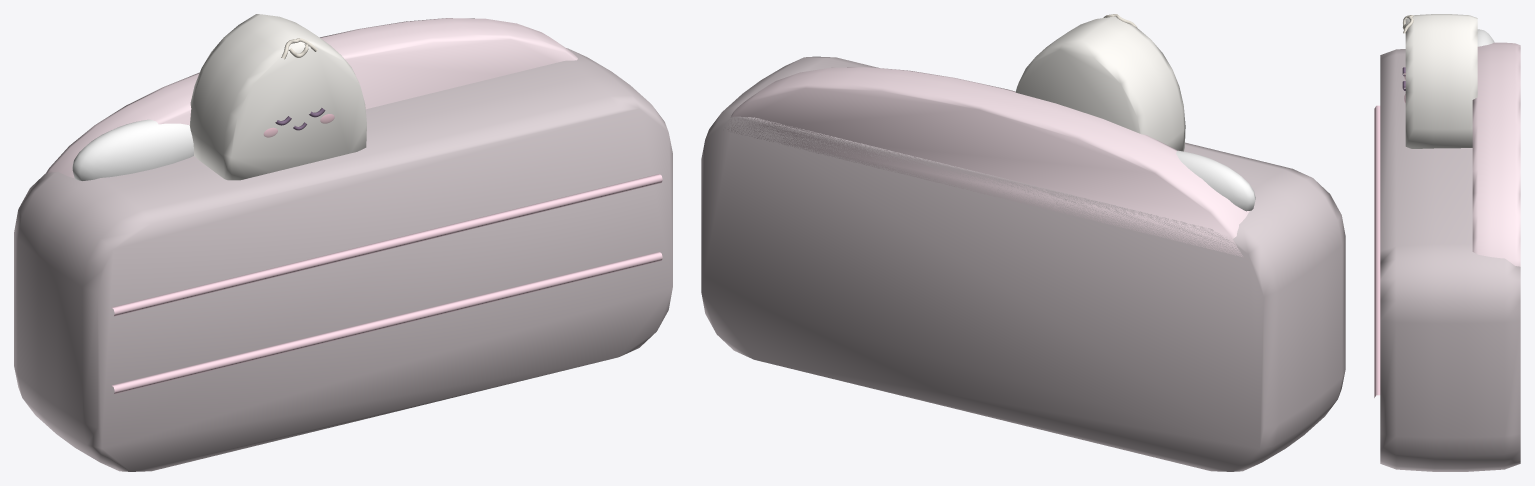
Rendered from decor_1_candy.glb.
The picture shows the model from 3 angles, left to right: view 1: azimuth 30°, elevation 25°; view 2: azimuth 150°, elevation 25°; view 3: azimuth 270°, elevation 25°; orthographic projection. The views are drawn at different scales.
Parts seen in each view (by area): view 1: decor_1_candy; view 2: decor_1_candy; view 3: decor_1_candy.
Boxes of the visible parts, x1,y1,x2,y2 form: decor_1_candy: (14, 14, 672, 471); decor_1_candy: (701, 14, 1345, 471); decor_1_candy: (1374, 14, 1520, 471).
Bounding box in the file's own units: 17.49 × 10.97 × 4.46.
